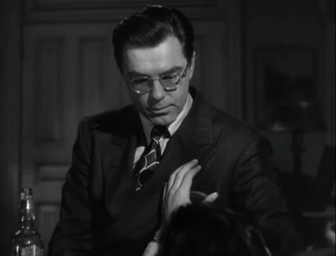face: (123, 54, 190, 126)
mcu: (1, 1, 336, 256)
person: (45, 4, 317, 256)
